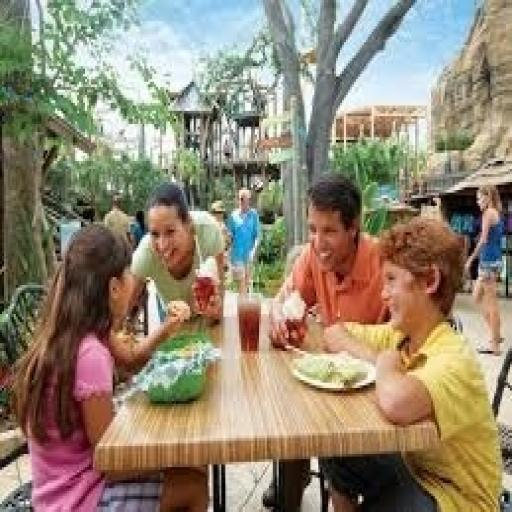eating: (10, 166, 506, 510)
